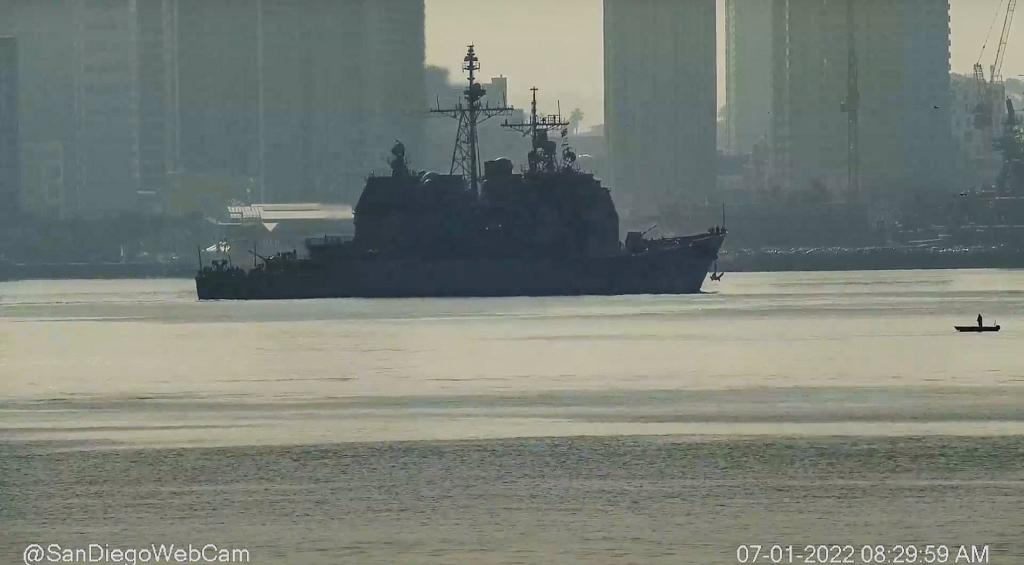Warship: (180, 40, 742, 302)
